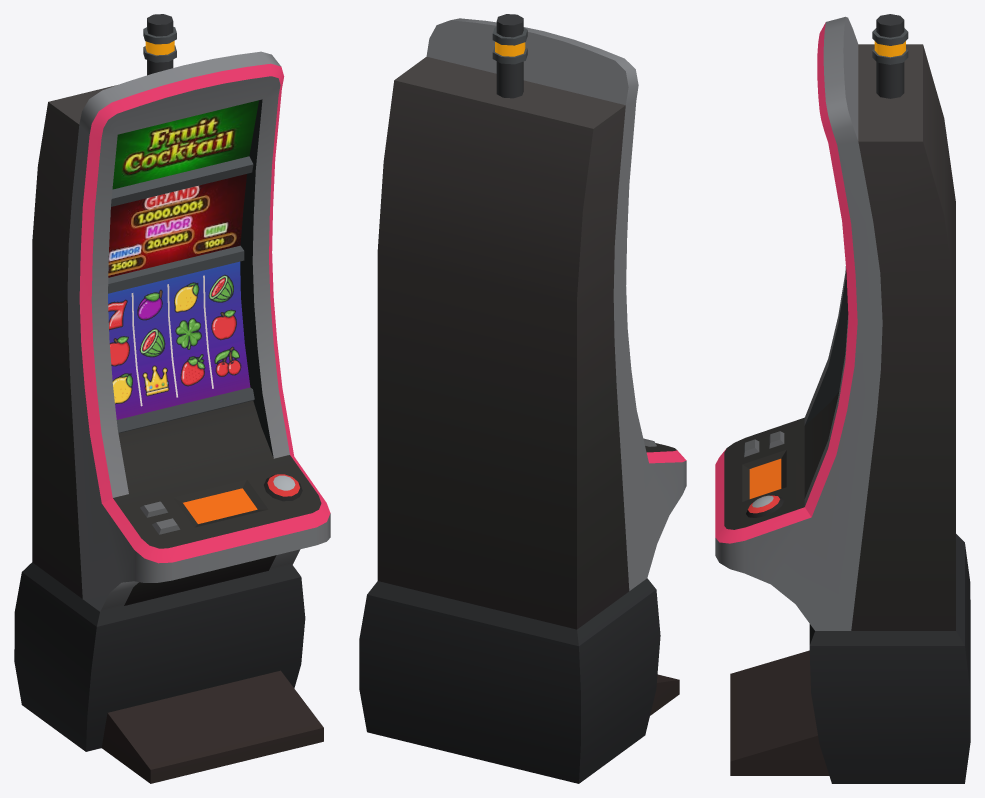
File: Slot_Machine_01.glb
3 renders of one model, left to right at view 1: azimuth 30°, elevation 25°; view 2: azimuth 150°, elevation 25°; view 3: azimuth 270°, elevation 25°, orthographic. The views are drawn at different scales.
Visible parts, largest first — view 1: Slot_Machine_01, Slot_03, Slot_04, Slot_02, Slot_01; view 2: Slot_Machine_01; view 3: Slot_Machine_01.
Part boxes in pixels (x1,y1,x2,y2): Slot_Machine_01: [14, 14, 330, 783]; Slot_03: [174, 282, 205, 386]; Slot_04: [208, 274, 241, 376]; Slot_02: [137, 289, 169, 396]; Slot_01: [108, 299, 132, 404]; Slot_Machine_01: [359, 14, 686, 783]; Slot_Machine_01: [715, 14, 970, 783].
Size of the model in its own units: 0.8624 by 2.64 by 0.8581.
Materials: 4 (4 with a texture image).
